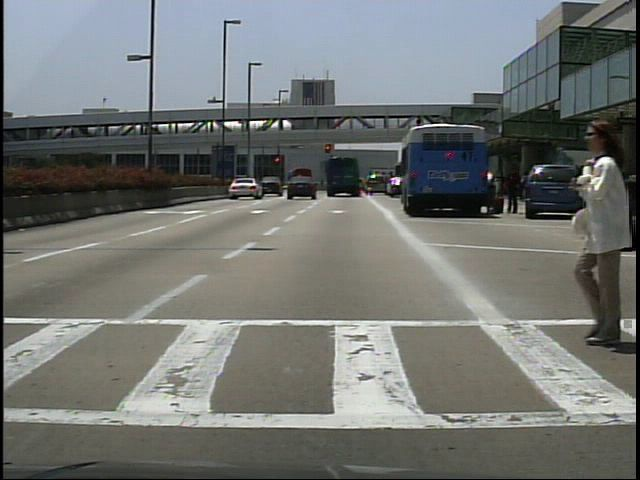person: (561, 116, 635, 351), (582, 165, 602, 218), (484, 163, 502, 215), (503, 165, 522, 214)
